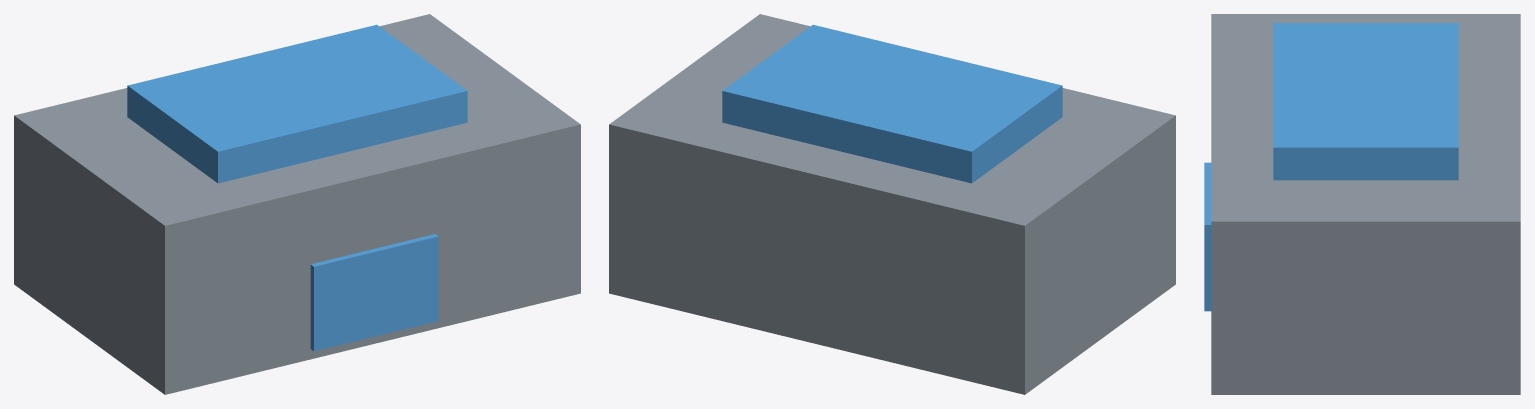
Rendered from AL_CitadelTank_LOD0.glb.
3 renders of one model, left to right at view 1: azimuth 30°, elevation 25°; view 2: azimuth 150°, elevation 25°; view 3: azimuth 270°, elevation 25°, orthographic. The views are drawn at different scales.
Visible parts, largest first — view 1: EntranceGate; view 2: EntranceGate; view 3: EntranceGate.
Part boxes in pixels (x1,y1,x2,y2): EntranceGate: [14, 14, 580, 394]; EntranceGate: [609, 14, 1175, 394]; EntranceGate: [1204, 14, 1520, 394].
Size of the model in its own units: 700 by 323 by 450.
